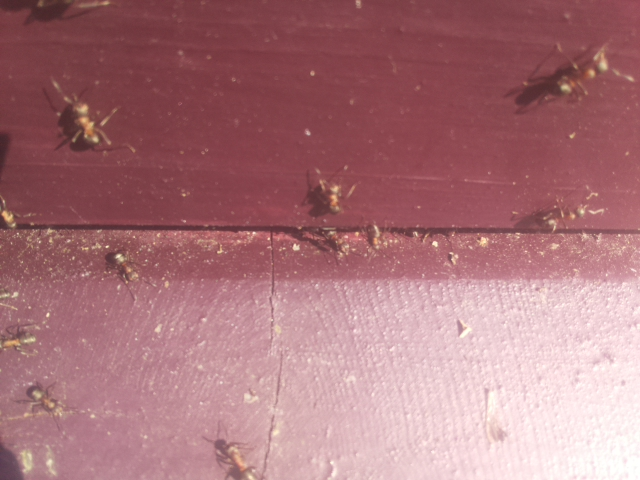ant: (551, 42, 614, 105), (55, 88, 108, 156), (19, 371, 71, 427), (208, 432, 267, 480), (99, 238, 146, 295), (316, 174, 348, 217), (1, 326, 36, 353), (0, 190, 18, 235)
